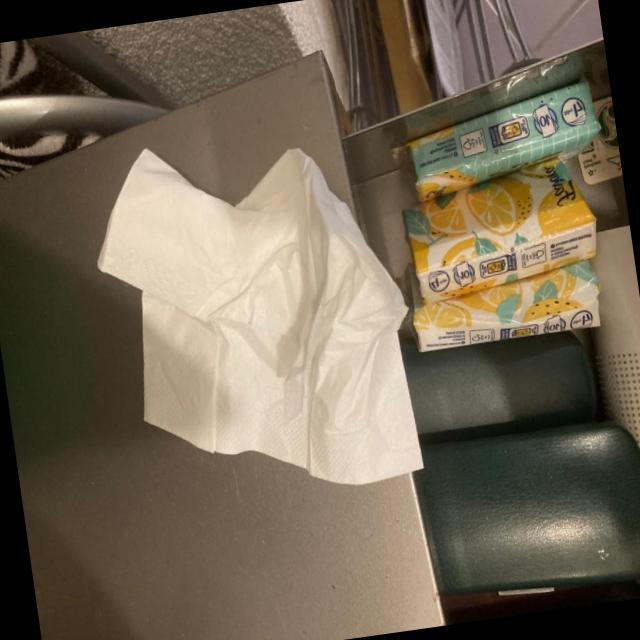organic waste: (79, 110, 439, 524)
